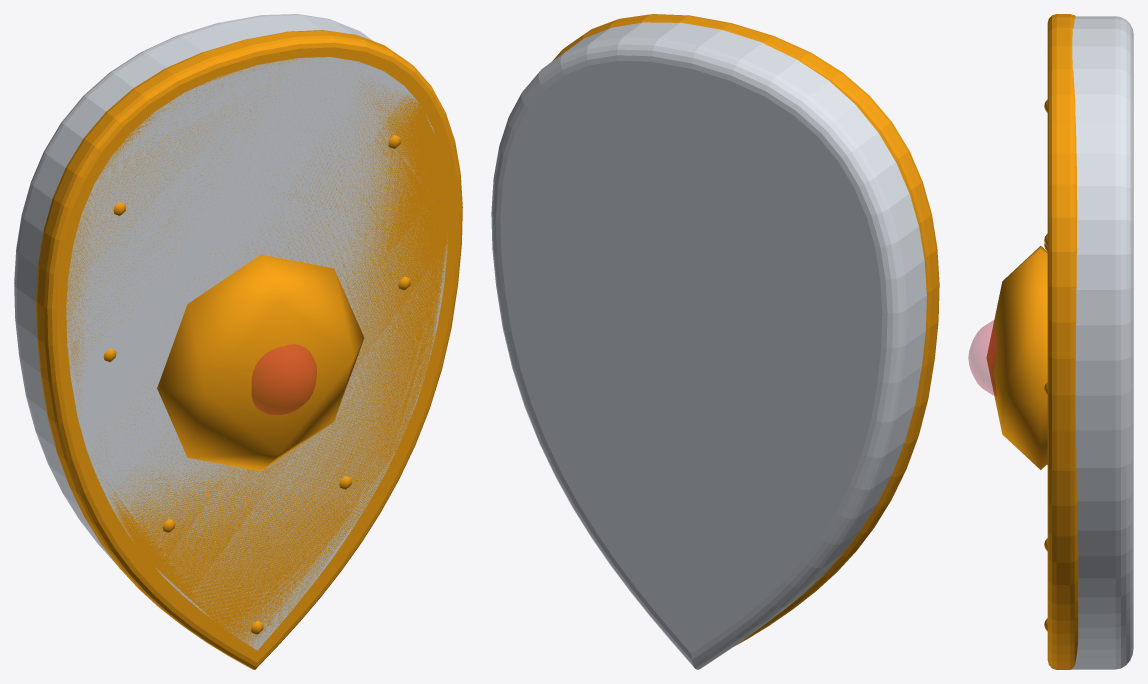
The model's file is shield.glb.
3 views of the same model, side by side, from view 1: azimuth 30°, elevation 25°; view 2: azimuth 150°, elevation 25°; view 3: azimuth 270°, elevation 25° (orthographic).
Parts seen in each view (by area): view 1: ShieldPlate, GoldBorder, LionCrest, RubyInsignia; view 2: ShieldPlate, GoldBorder; view 3: ShieldPlate, GoldBorder, LionCrest, RubyInsignia.
Boxes of the visible parts, left/top/right/bottom form: ShieldPlate: left=14, top=14, right=447, bottom=650; GoldBorder: left=36, top=30, right=462, bottom=669; LionCrest: left=157, top=254, right=364, bottom=471; RubyInsignia: left=252, top=344, right=316, bottom=414; ShieldPlate: left=491, top=22, right=926, bottom=669; GoldBorder: left=552, top=14, right=939, bottom=646; ShieldPlate: left=1072, top=16, right=1133, bottom=669; GoldBorder: left=1047, top=14, right=1078, bottom=669; LionCrest: left=986, top=246, right=1047, bottom=469; RubyInsignia: left=968, top=320, right=996, bottom=395.
Size of the model in its own units: 2.13 by 3.04 by 0.73.
